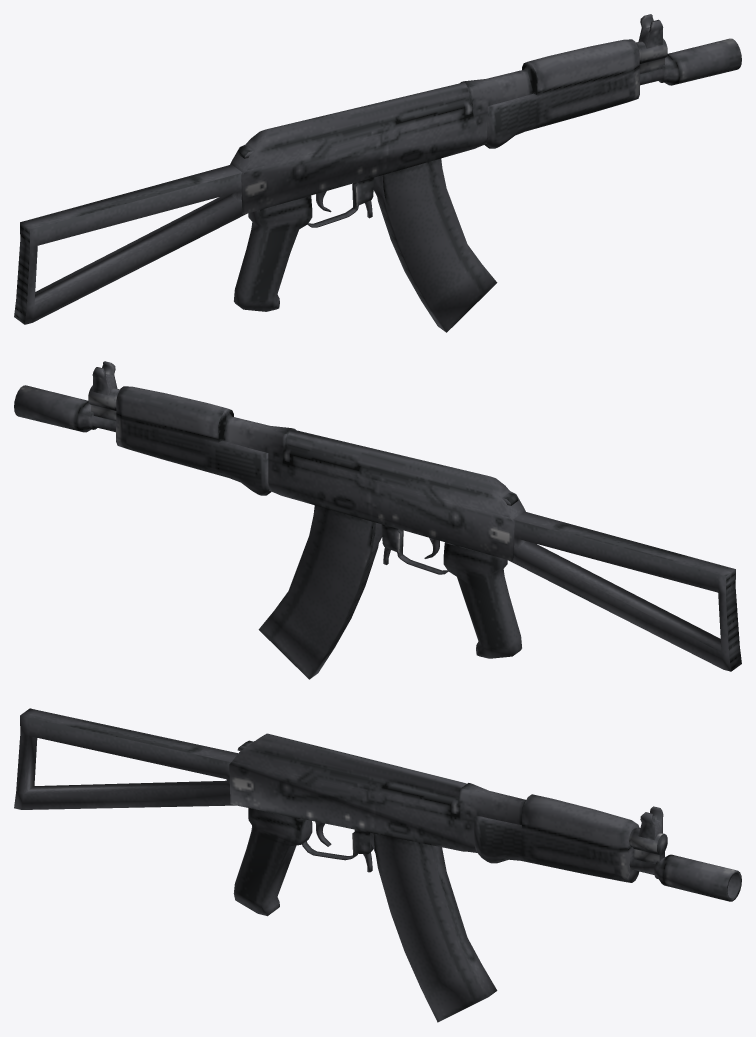
The model's file is basicGun.glb.
3 renders of one model, top to bottom at view 1: azimuth 30°, elevation 25°; view 2: azimuth 150°, elevation 25°; view 3: azimuth 330°, elevation 25°, orthographic.
Visible parts, largest first — view 1: akms_0; view 2: akms_0; view 3: akms_0.
Boxes of the visible parts, box(x1,y1,x2,y2) form: akms_0: box(14, 14, 741, 332); akms_0: box(14, 361, 741, 679); akms_0: box(14, 708, 741, 1022).
Size of the model in its own units: 7.2 by 2.5 by 0.2802.
1 material, 1 textured.
